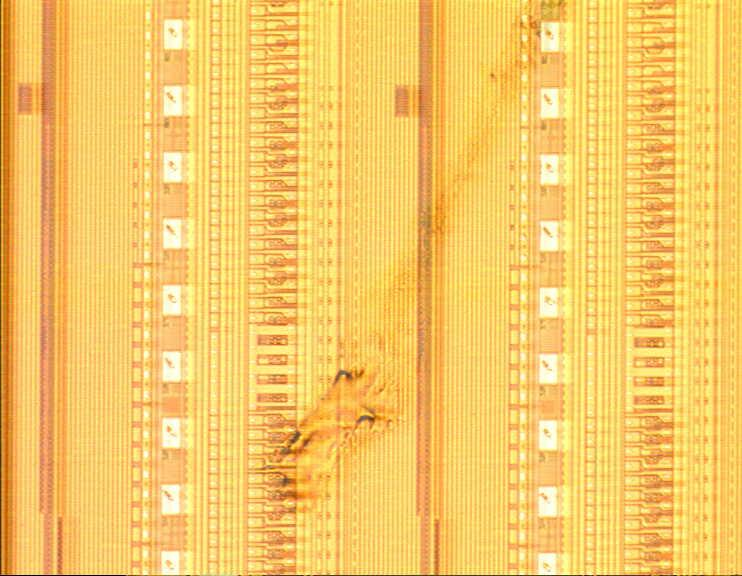PO CONTAMINATION: (264, 2, 573, 521)
